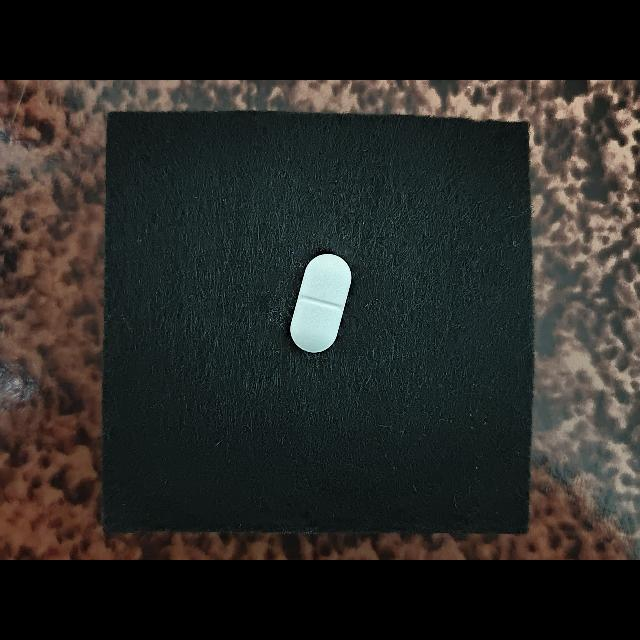Intact Pill: (289, 253, 352, 353)
